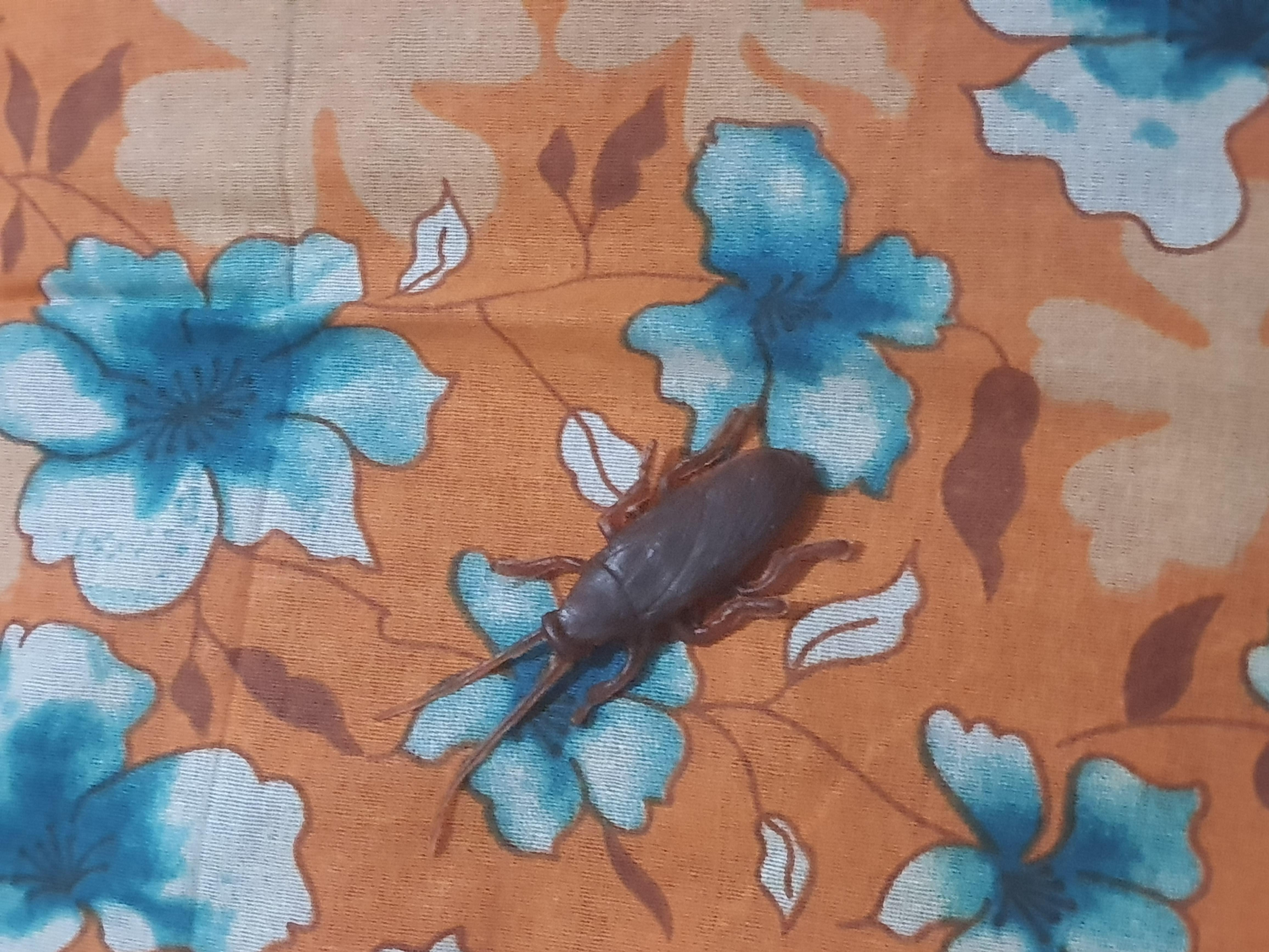cockroach: (177, 338, 754, 656)
